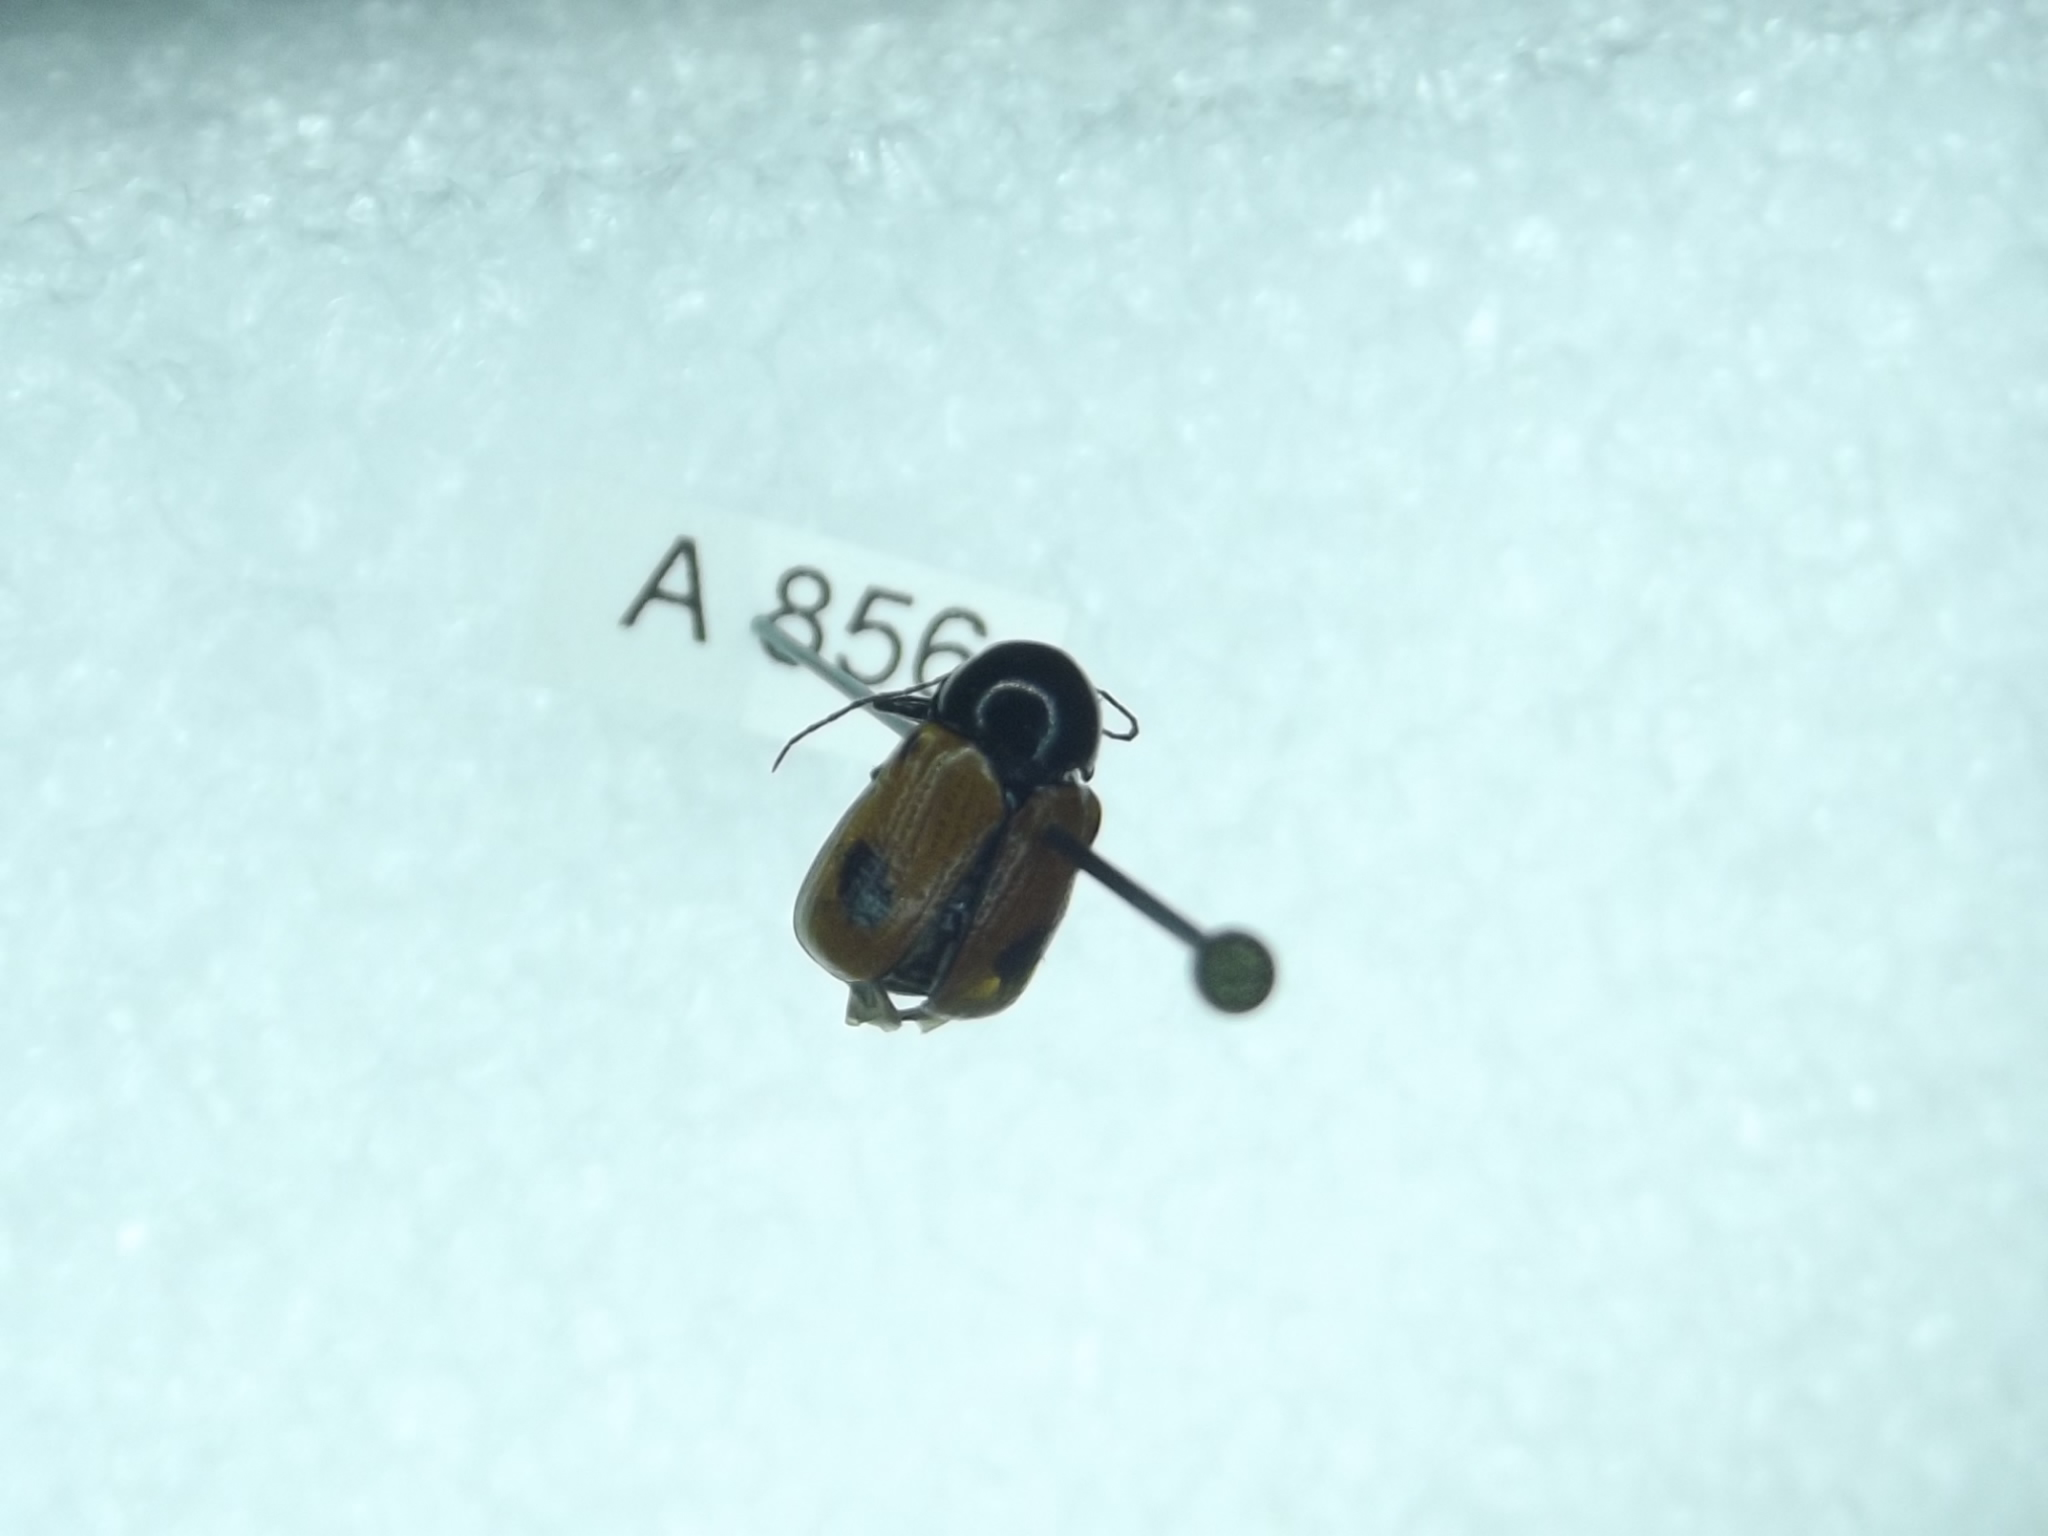Cryptocephalus_bipunctatus: (737, 636, 1140, 1041)
